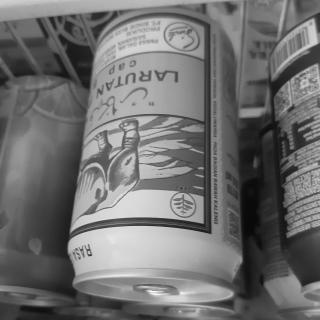alumunium_can: (74, 5, 246, 318), (120, 67, 126, 86)
